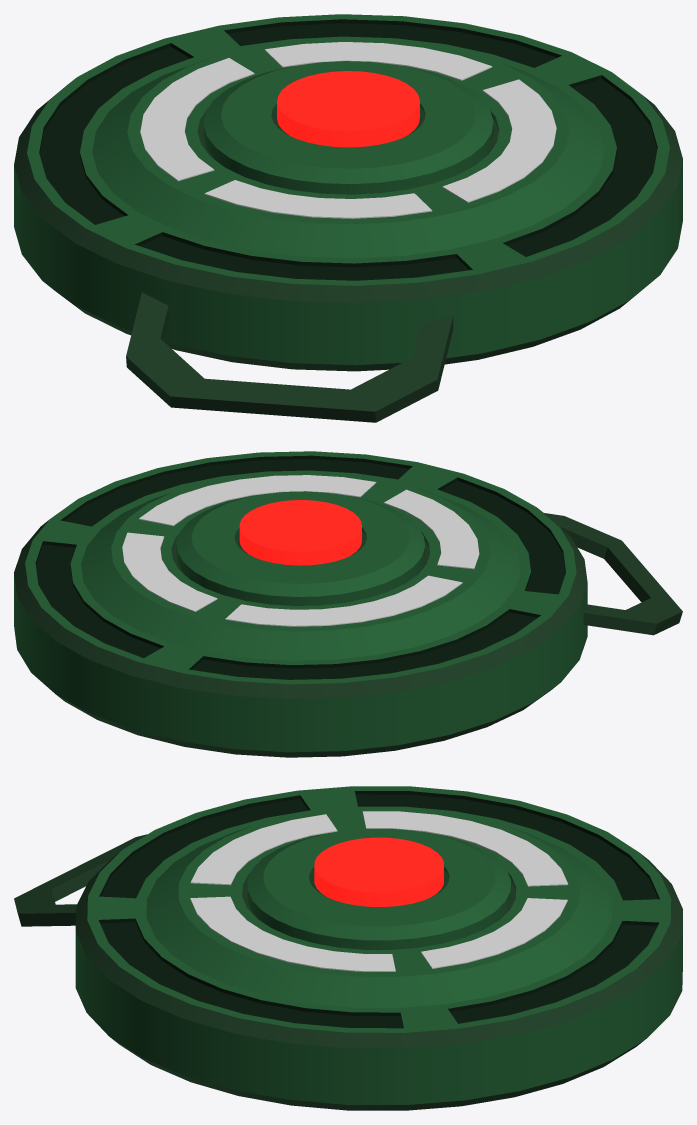
File: Mine.fbx
3 renders of one model, top to bottom at view 1: azimuth 30°, elevation 25°; view 2: azimuth 150°, elevation 25°; view 3: azimuth 270°, elevation 25°, orthographic. The views are drawn at different scales.
Visible parts, largest first — view 1: Trap_Mine; view 2: Trap_Mine; view 3: Trap_Mine.
Part boxes in pixels (left/top/right/bottom): Trap_Mine: left=14, top=14, right=682, bottom=422; Trap_Mine: left=14, top=451, right=682, bottom=757; Trap_Mine: left=14, top=786, right=682, bottom=1110.
Size of the model in its own units: 0.0315 by 0.00665 by 0.0329.
2 materials, 1 textured.
